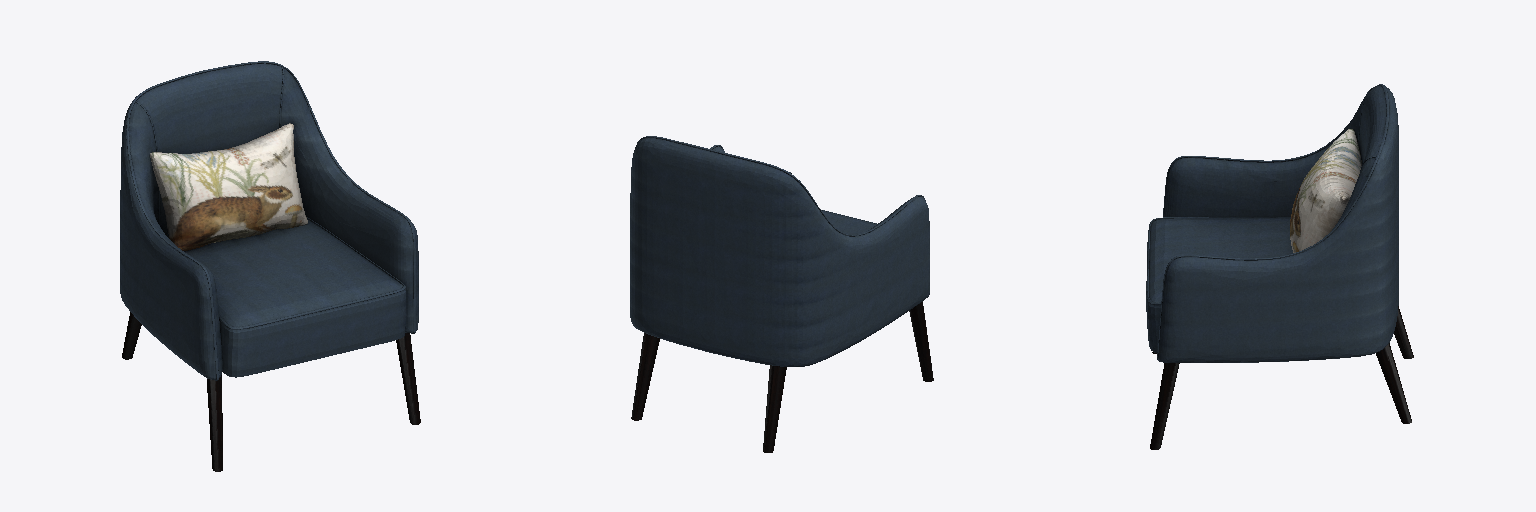
The picture shows the model from 3 angles: view 1: azimuth 30°, elevation 25°; view 2: azimuth 150°, elevation 25°; view 3: azimuth 270°, elevation 25°; orthographic projection.
Parts seen in each view (by area): view 1: solid_003, solid_001, solid_002; view 2: solid_003, solid_002; view 3: solid_003, solid_001, solid_002.
Part boxes in pixels (left/top/right/bottom): solid_003: left=120, top=61, right=418, bottom=380; solid_001: left=150, top=123, right=307, bottom=250; solid_002: left=122, top=312, right=420, bottom=471; solid_003: left=630, top=136, right=929, bottom=366; solid_002: left=631, top=302, right=933, bottom=452; solid_003: left=1146, top=84, right=1398, bottom=362; solid_001: left=1290, top=129, right=1361, bottom=252; solid_002: left=1150, top=306, right=1413, bottom=449.
Bounding box in the file's own units: 0.7457 × 0.943 × 0.7889.
Materials: 1 (1 with a texture image).